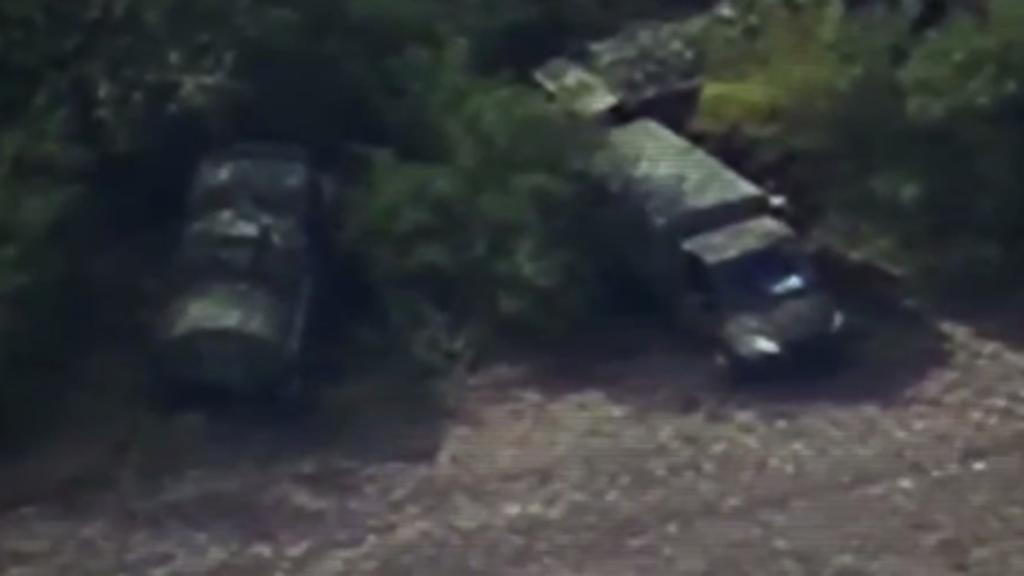TRUCK: (560, 114, 854, 389), (158, 124, 340, 396)
